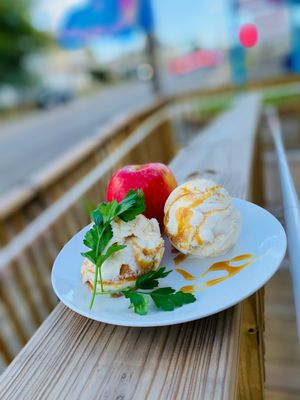curry: (0, 104, 290, 398)
sushi: (162, 178, 241, 258)
